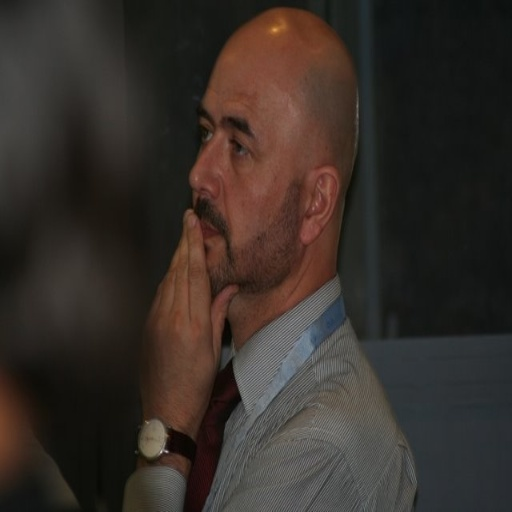hand: (133, 206, 240, 441)
